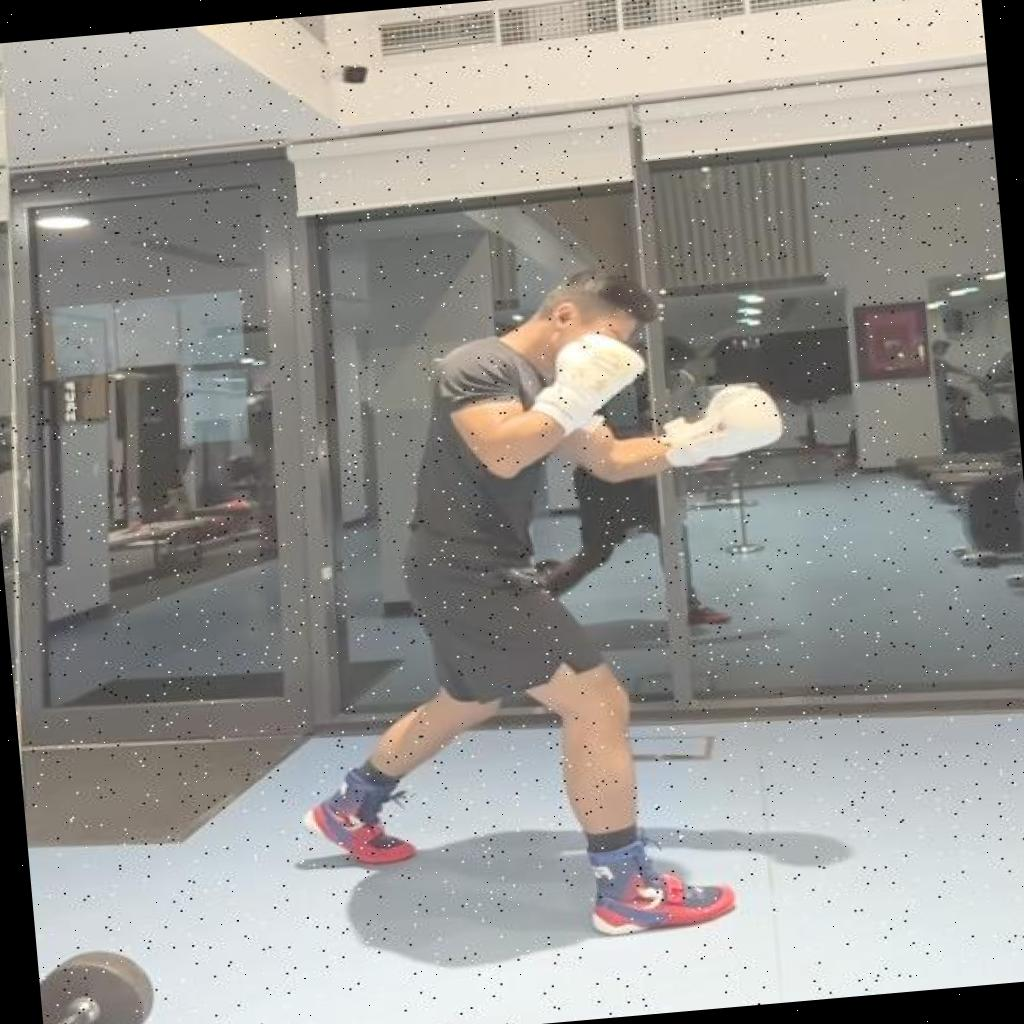uppercut: (252, 250, 827, 967)
